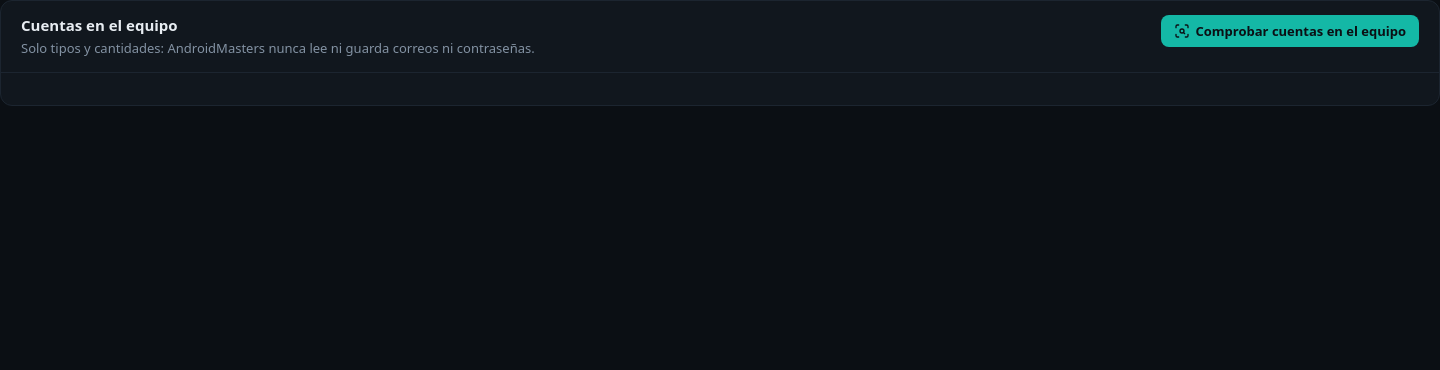
Scenario: account check › shows types and counts and confirms a verified removal
Click the button "Comprobar cuentas en el equipo" at (1290, 31), box [1160, 15, 1419, 47]
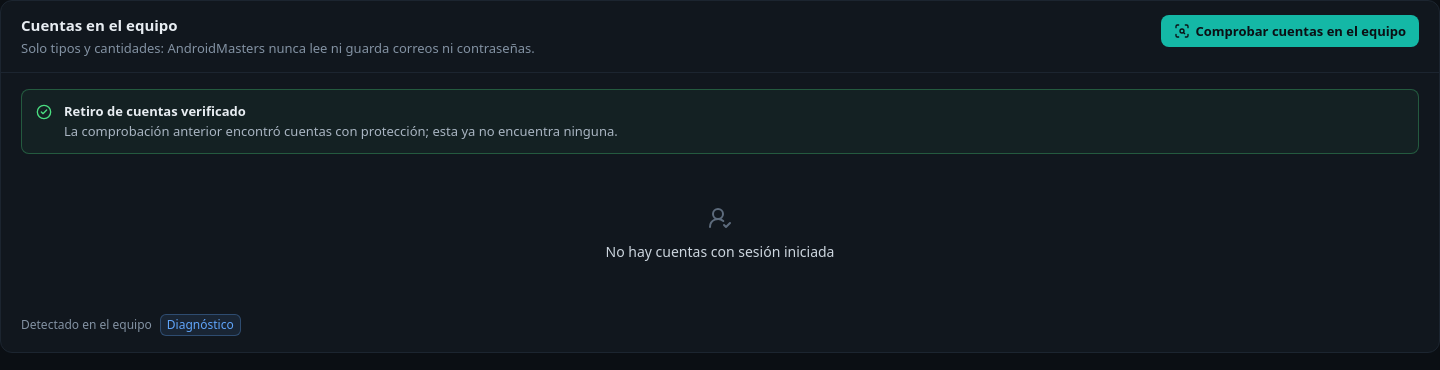
Result: the text "Retiro de cuentas verificado" is shown at [64, 102, 246, 120]
Result: the text "No hay cuentas con sesión iniciada" is shown at [606, 242, 834, 262]
